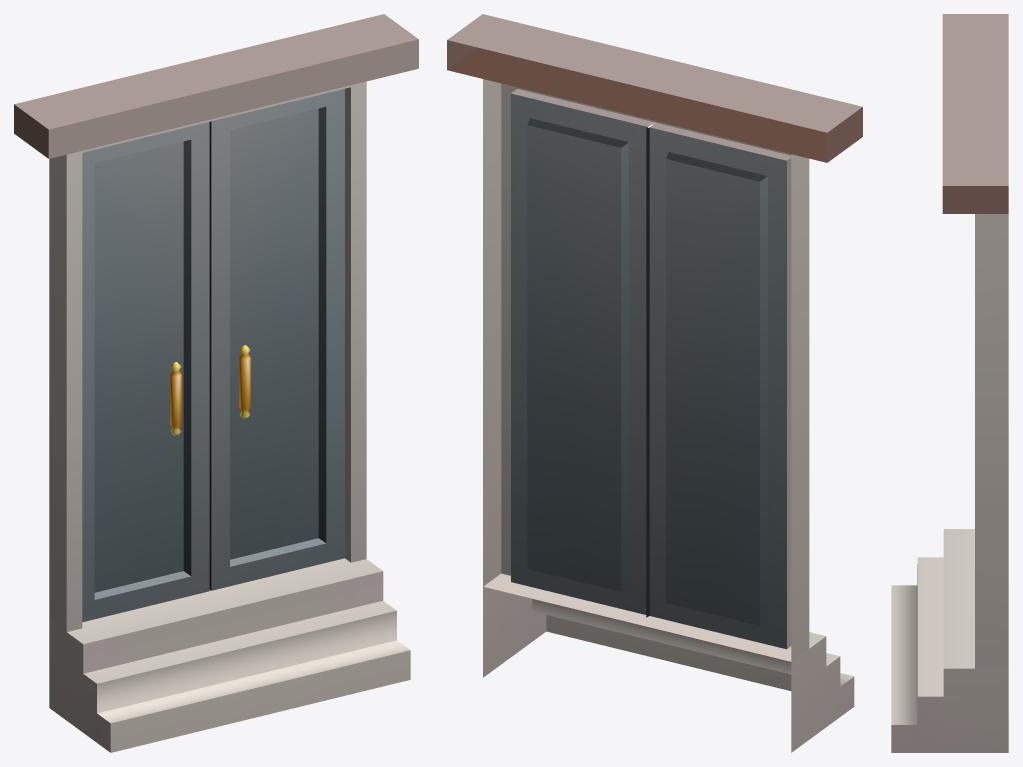
File: Door01.fbx
3 views of the same model, side by side, from view 1: azimuth 30°, elevation 25°; view 2: azimuth 150°, elevation 25°; view 3: azimuth 270°, elevation 25° (orthographic). The views are drawn at different scales.
Parts seen in each view (by area): view 1: Door01; view 2: Door01; view 3: Door01.
Boxes of the visible parts, x1,y1,x2,y2 form: Door01: [14, 14, 418, 752]; Door01: [447, 14, 862, 752]; Door01: [891, 14, 1008, 752].
Bounding box in the file's own units: 0.6257 × 0.9891 × 0.1802.
